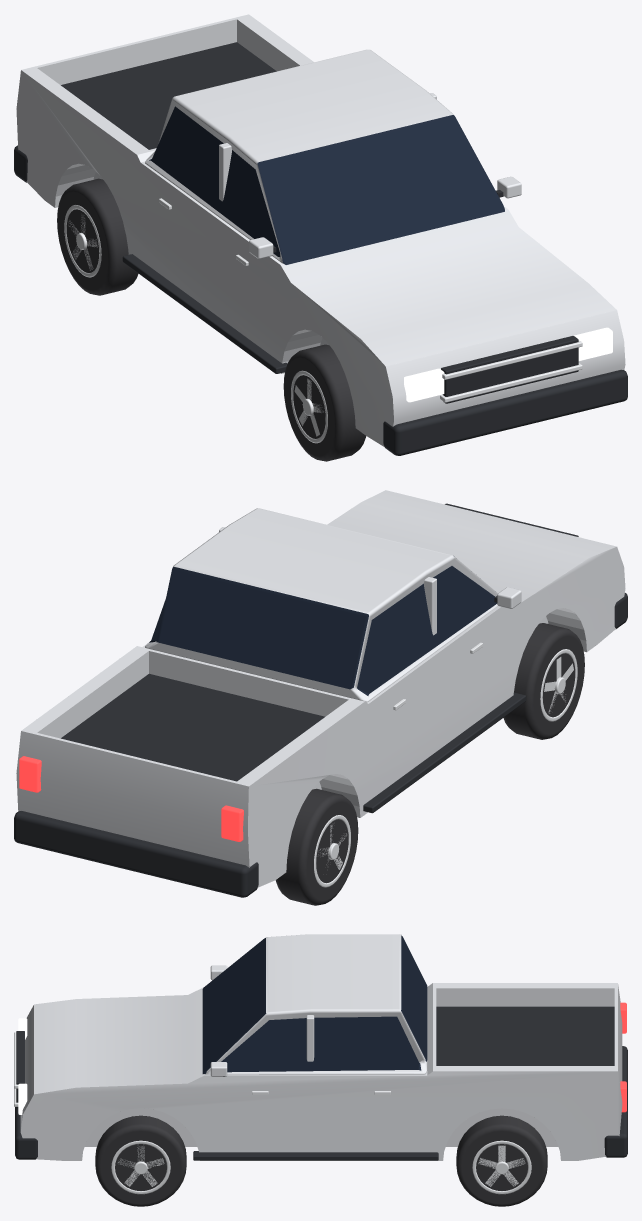
File: truck.glb
The picture shows the model from 3 angles, top to bottom: view 1: azimuth 30°, elevation 25°; view 2: azimuth 150°, elevation 25°; view 3: azimuth 270°, elevation 25°; orthographic projection. The views are drawn at different scales.
Parts seen in each view (by area): view 1: body_paint, body_trim, wheel_FR, wheel_RR; view 2: body_paint, body_trim, wheel_RR, wheel_FR; view 3: body_paint, body_trim, wheel_RL, wheel_FL.
Part boxes in pixels (x1,y1,x2,y2): body_paint: (16,14,625,446); body_trim: (14,42,627,455); wheel_FR: (283,344,366,461); wheel_RR: (57,178,138,295); body_paint: (16,490,625,887); body_trim: (14,503,627,897); wheel_RR: (275,788,358,905); wheel_FR: (503,623,584,739); body_paint: (20,934,622,1160); body_trim: (14,935,627,1160); wheel_RL: (456,1115,547,1206); wheel_FL: (95,1115,186,1206).
Size of the model in its own units: 2.18 by 1.87 by 5.51.
